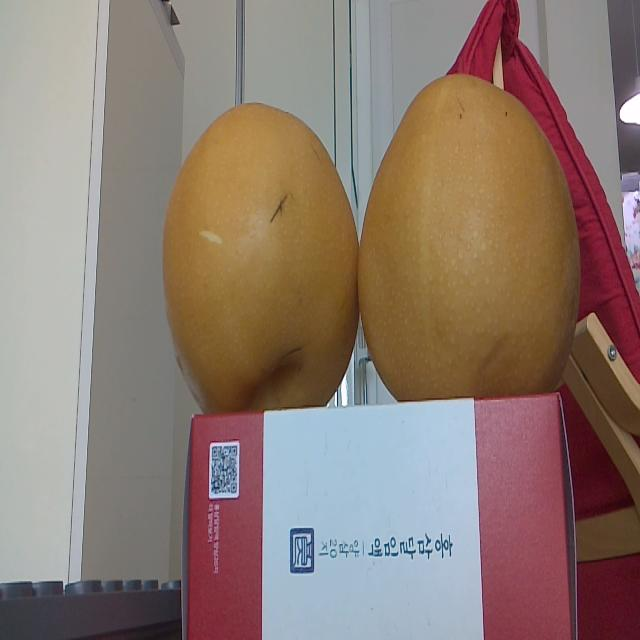pear: (360, 74, 580, 397), (163, 102, 361, 410)
